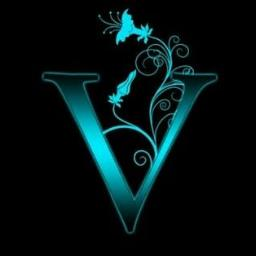v: (40, 68, 224, 240)
